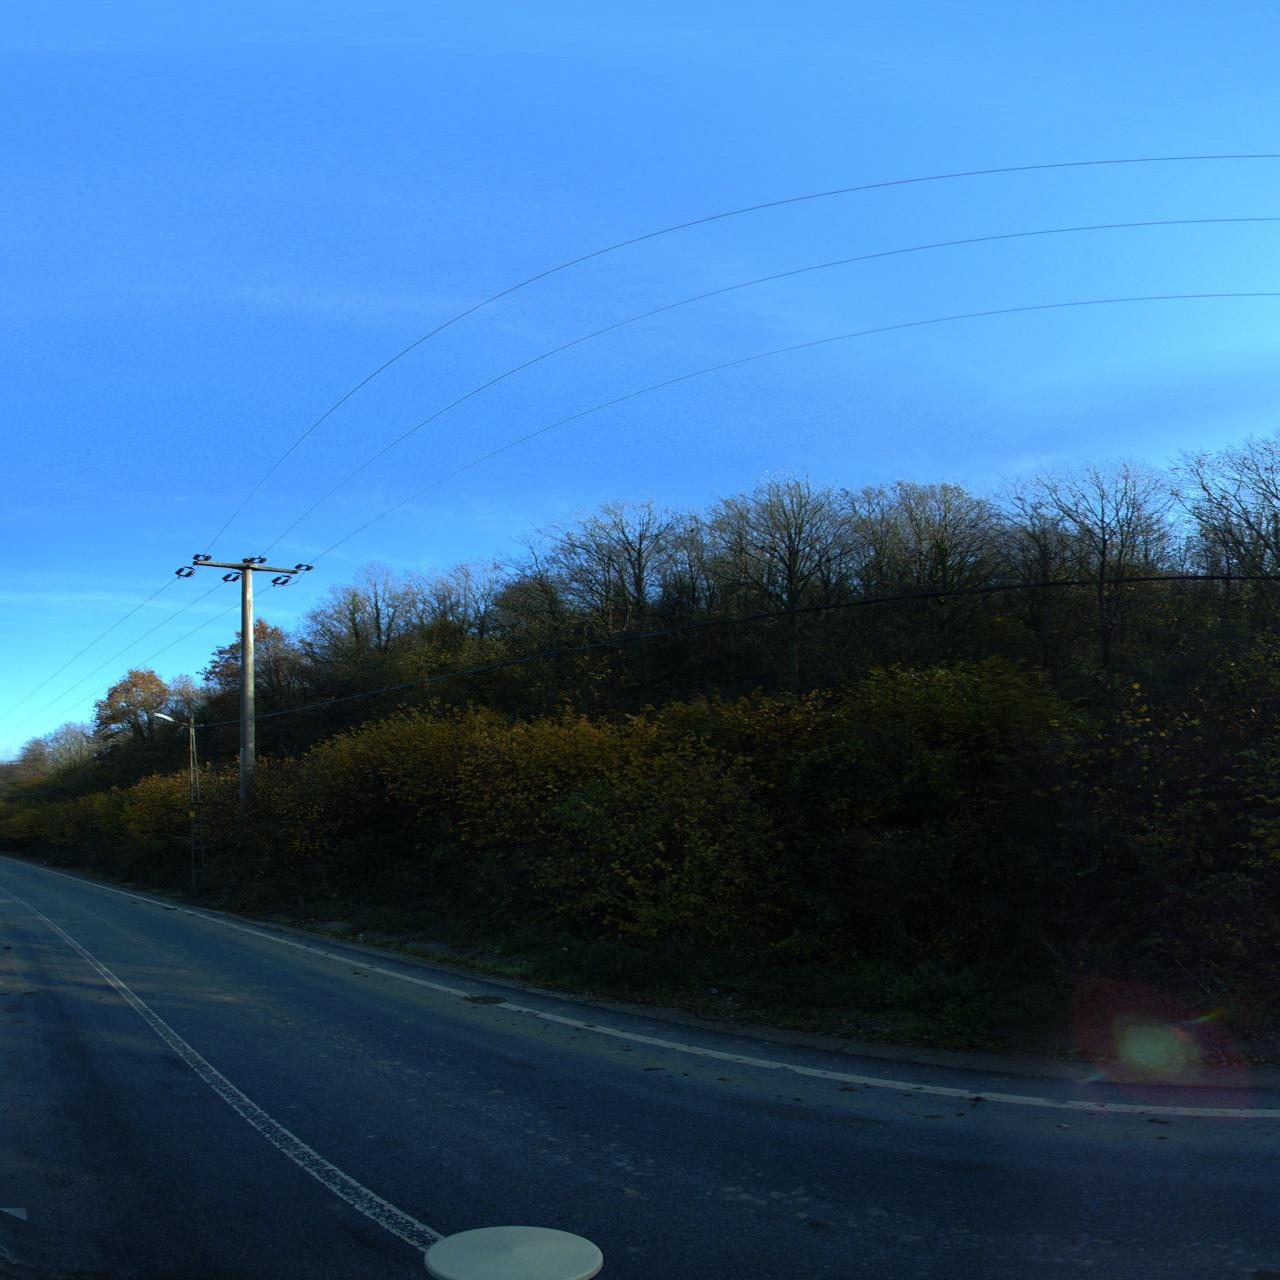Utility Pole Information Plate: (186, 810, 197, 818)
